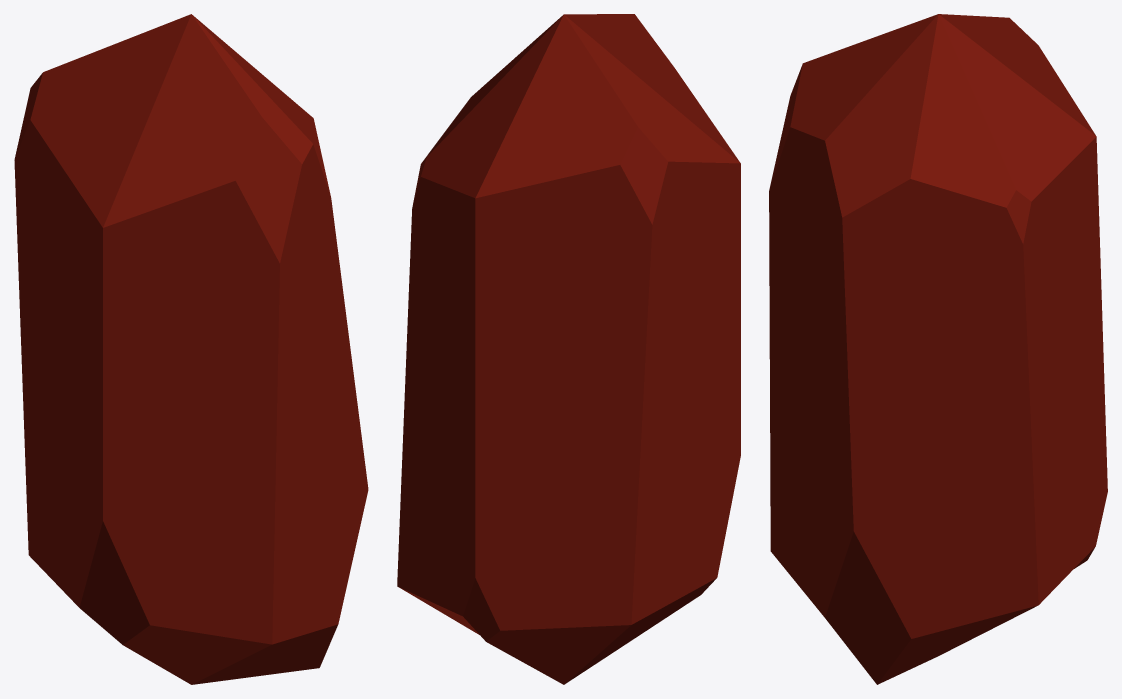
3 renders of one model, left to right at view 1: azimuth 30°, elevation 25°; view 2: azimuth 150°, elevation 25°; view 3: azimuth 270°, elevation 25°, orthographic. The views are drawn at different scales.
Visible parts, largest first — view 1: Object_4; view 2: Object_4; view 3: Object_4.
Boxes of the visible parts, left/top/right/bottom form: Object_4: left=14, top=14, right=368, bottom=684; Object_4: left=397, top=14, right=740, bottom=684; Object_4: left=769, top=14, right=1107, bottom=684.
Bounding box in the file's own units: 14.43 × 34.86 × 16.67.
